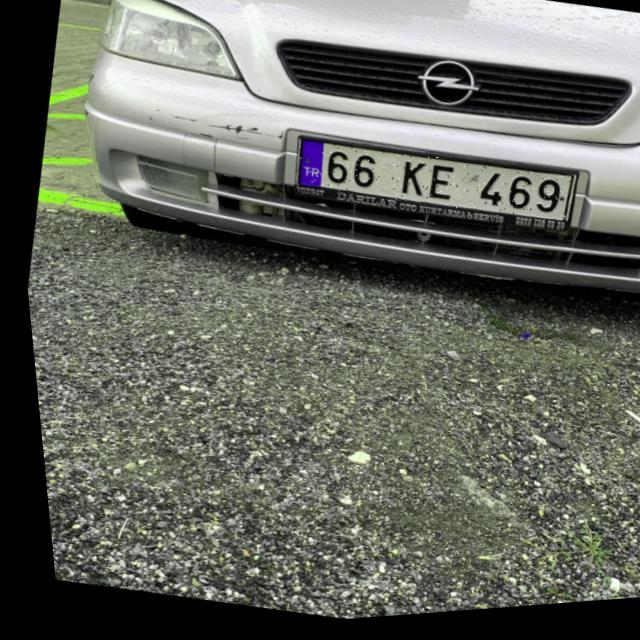license_plate: (287, 126, 570, 246)
